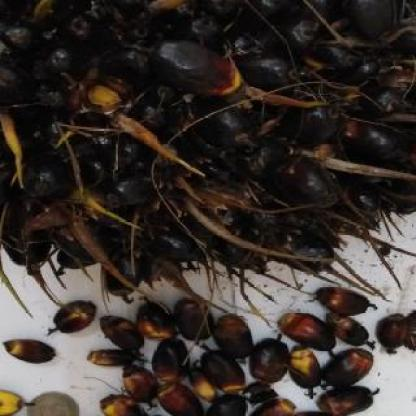Unripe: (0, 0, 416, 295)
